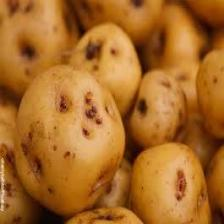Diseased-fungal potato: (10, 58, 126, 220), (69, 19, 144, 130), (128, 141, 210, 224), (126, 67, 191, 158)
